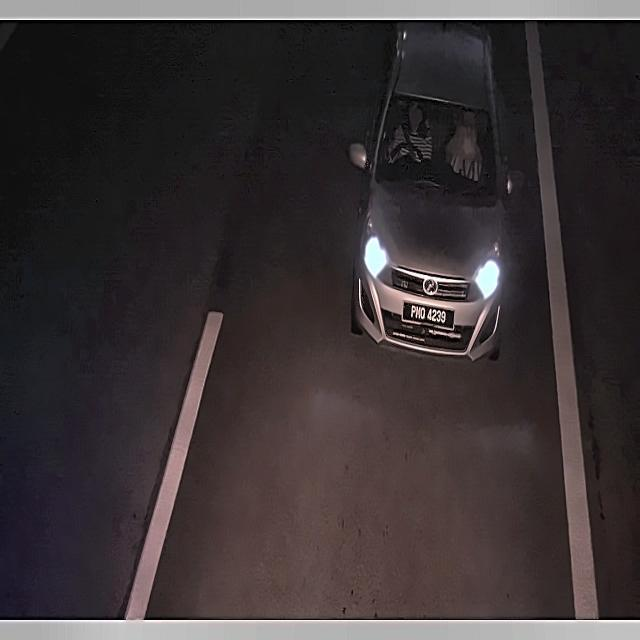car: (400, 294, 460, 337)
